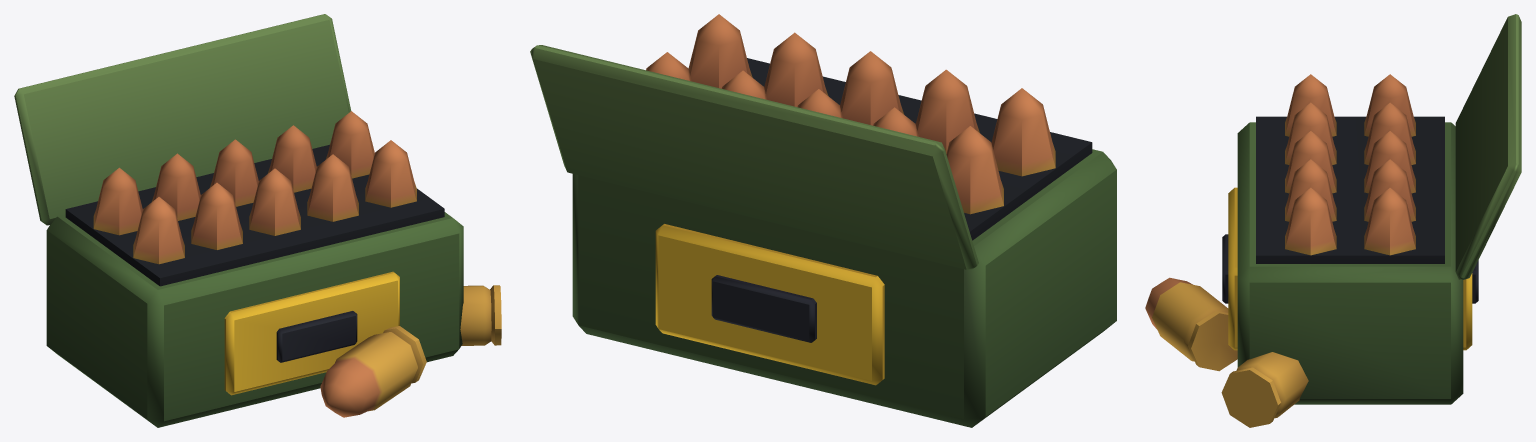
The model's file is ammo.glb.
The picture shows the model from 3 angles, left to right: view 1: azimuth 30°, elevation 25°; view 2: azimuth 150°, elevation 25°; view 3: azimuth 270°, elevation 25°; orthographic projection. The views are drawn at different scales.
Parts seen in each view (by area): view 1: ammo; view 2: ammo; view 3: ammo.
Boxes of the visible parts, x1,y1,x2,y2 form: ammo: (14,14,501,427); ammo: (530,14,1116,427); ammo: (1145,14,1521,427).
Size of the model in its own units: 0.1389 by 0.0882 by 0.1235.
